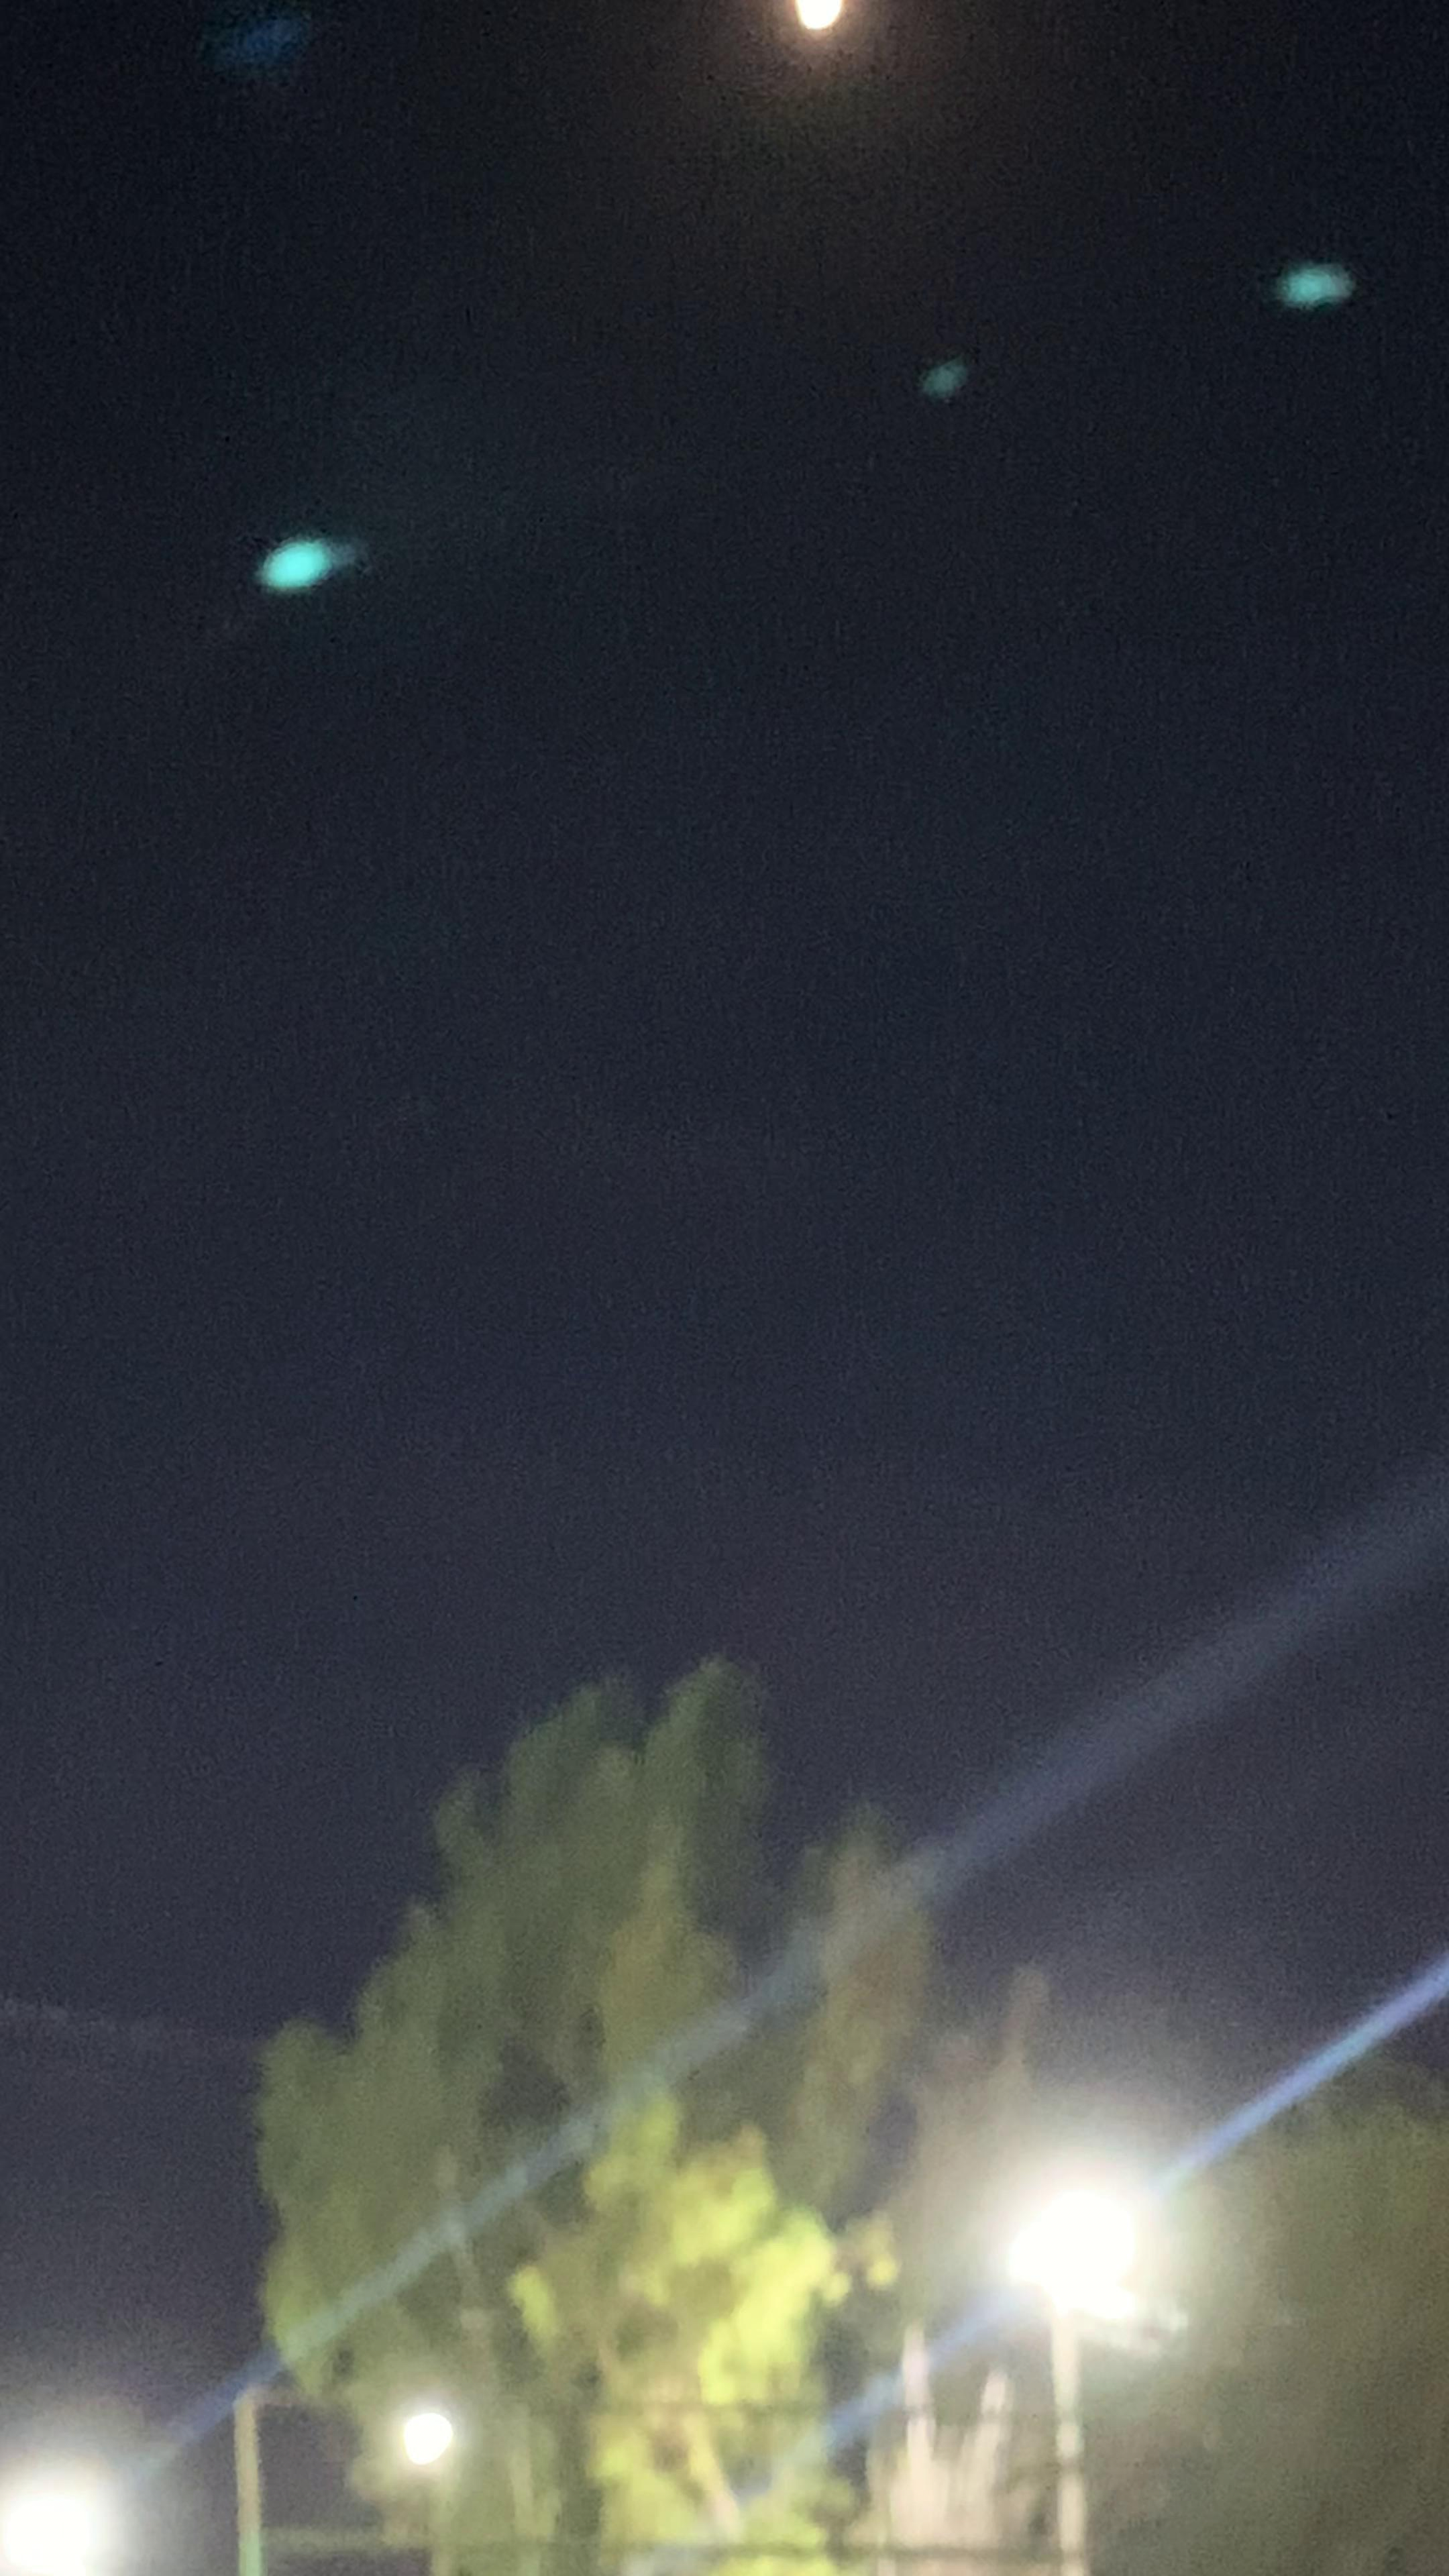moon: (752, 2, 890, 119)
